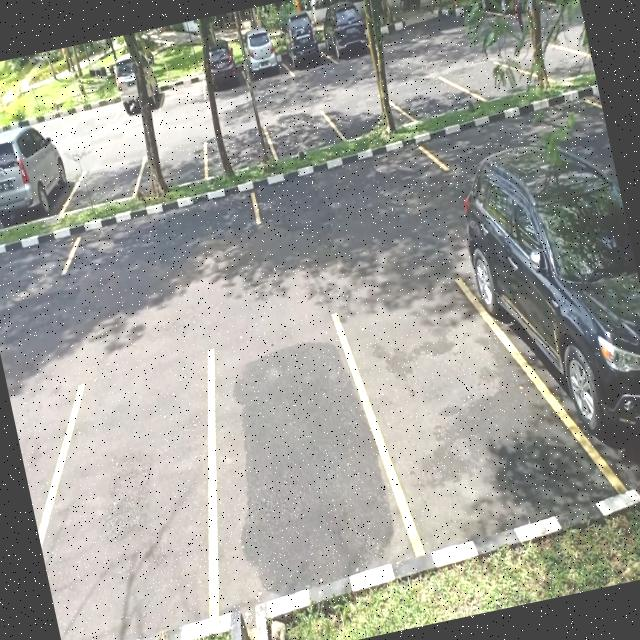empty: (178, 319, 402, 610), (344, 264, 567, 556), (9, 361, 231, 640), (245, 128, 449, 225), (55, 182, 265, 275), (66, 154, 146, 212), (264, 103, 339, 160), (328, 86, 403, 142), (393, 70, 468, 126), (200, 122, 274, 178), (138, 140, 212, 194), (154, 66, 208, 110), (64, 91, 120, 133)
occupied: (488, 143, 640, 497), (0, 133, 74, 231), (108, 56, 166, 121), (193, 39, 250, 100), (278, 11, 328, 78), (237, 30, 290, 90)
